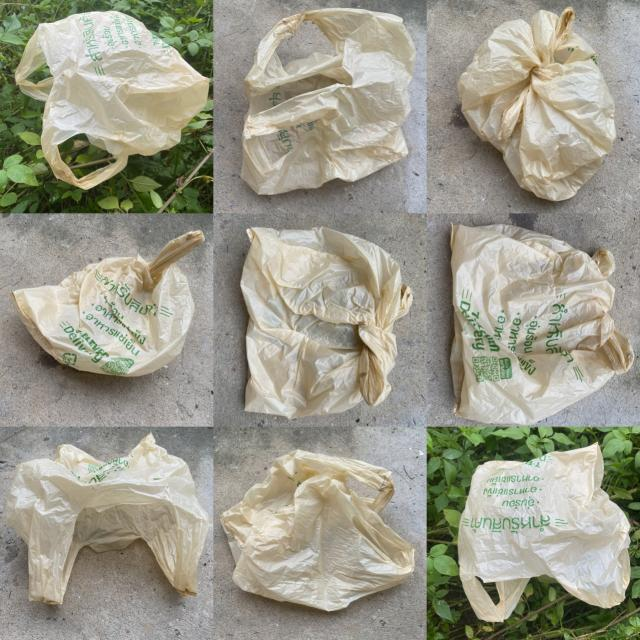Single-layer Plastic: (451, 225, 634, 424), (6, 434, 211, 604), (15, 11, 209, 189), (241, 228, 412, 419), (241, 9, 415, 194), (221, 450, 414, 611), (458, 8, 616, 201), (459, 444, 629, 621), (11, 231, 204, 376)
